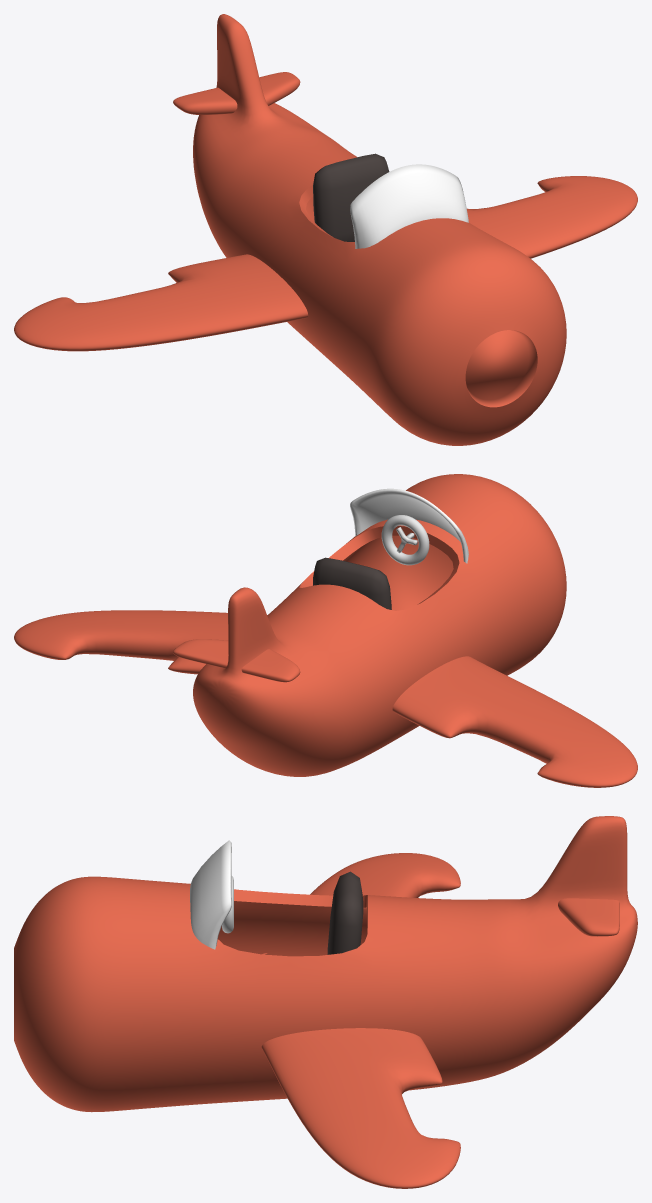
Rendered from plane body.glb.
3 renders of one model, top to bottom at view 1: azimuth 30°, elevation 25°; view 2: azimuth 150°, elevation 25°; view 3: azimuth 270°, elevation 25°, orthographic. The views are drawn at different scales.
Parts seen in each view (by area): view 1: Plane Body; view 2: Plane Body; view 3: Plane Body.
Part boxes in pixels (x1,y1,x2,y2): Plane Body: (14, 14, 637, 445); Plane Body: (14, 474, 637, 787); Plane Body: (14, 816, 637, 1188).
Bounding box in the file's own units: 8.82 × 3.48 × 7.
